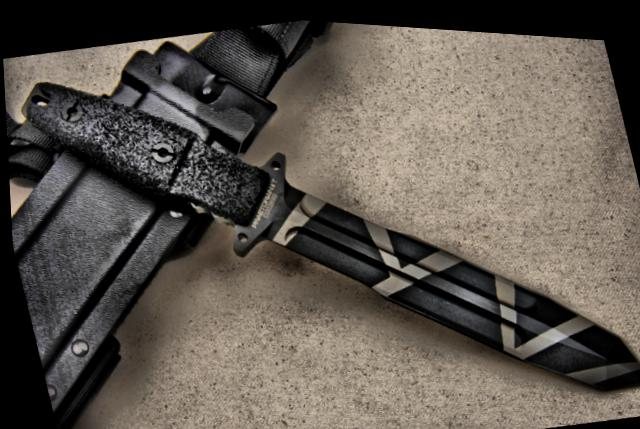knife: (198, 77, 640, 429)
